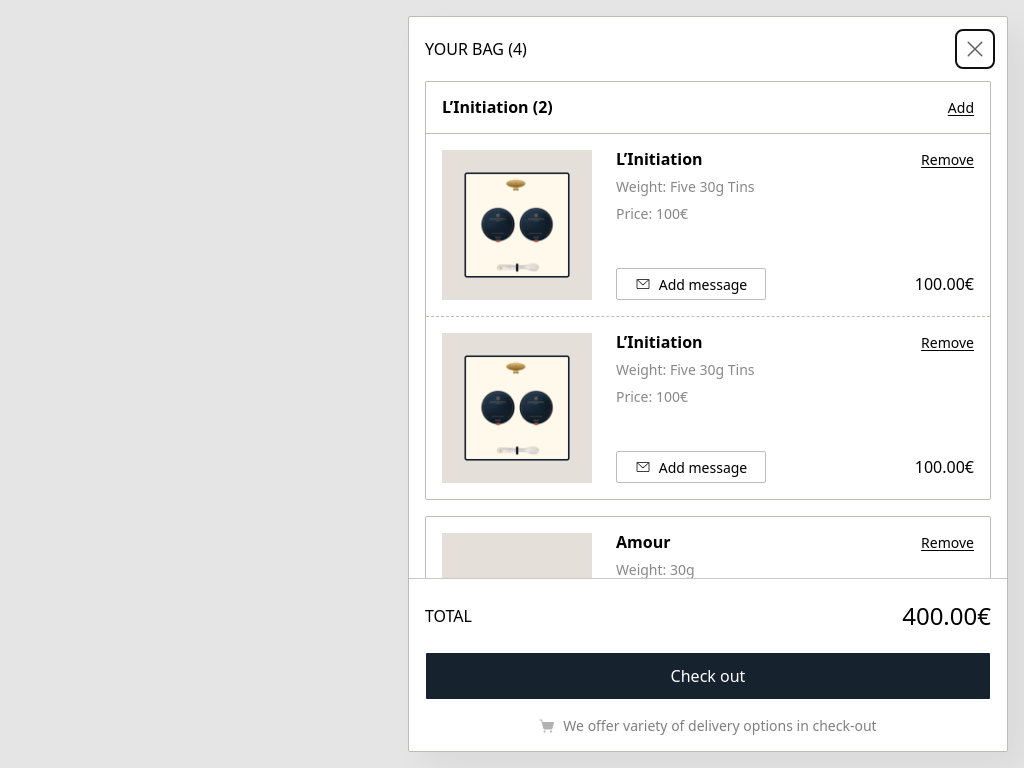
CartDrawer › removes selected gift unit upon confirmation
Step 1. Click the button with aria-label "Remove L’Initiation" → (948, 160), box [921,150,974,169]
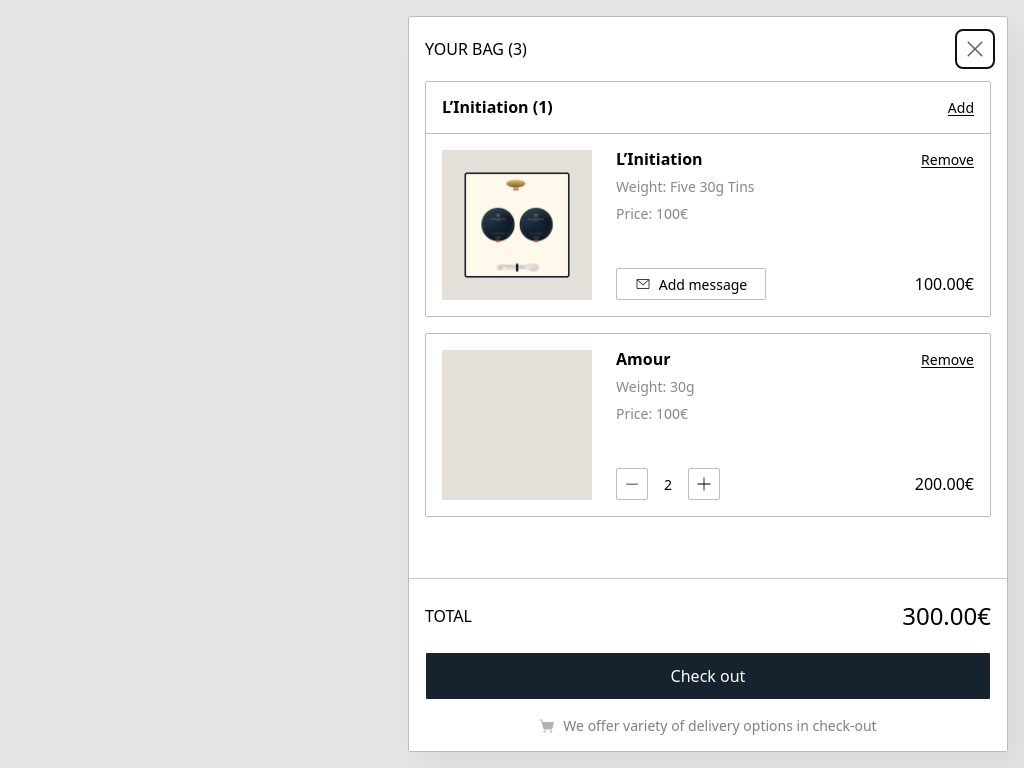
Check: the element "L’Initiation" is shown, box [425,81,991,317]
Check: the heading "YOUR BAG (3)" is shown, box [425,38,527,60]
